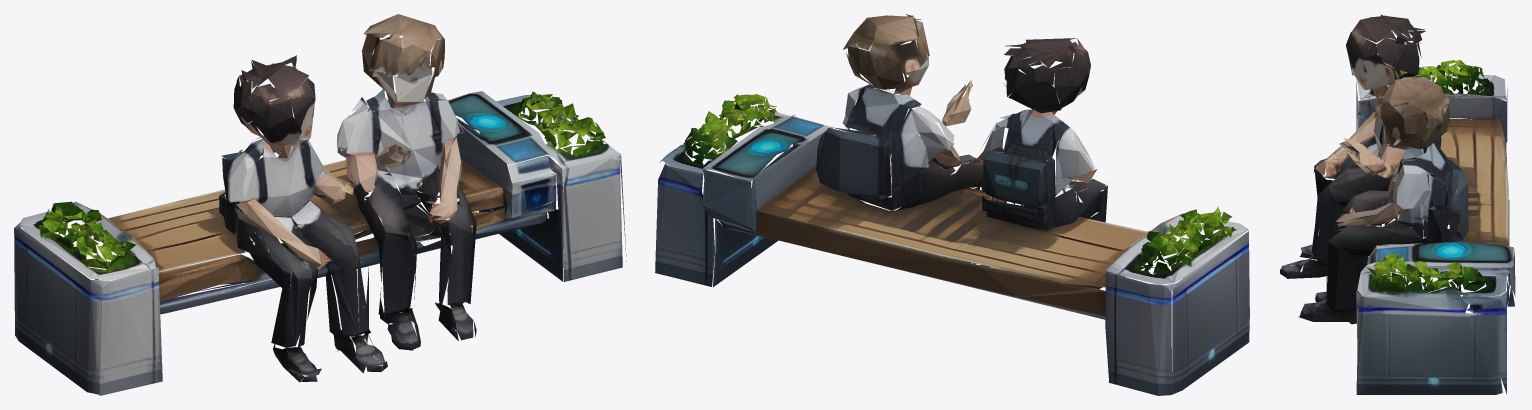
Rendered from school_boys.glb.
3 renders of one model, left to right at view 1: azimuth 30°, elevation 25°; view 2: azimuth 150°, elevation 25°; view 3: azimuth 270°, elevation 25°, orthographic. The views are drawn at different scales.
Visible parts, largest first — view 1: world.2082; view 2: world.2082; view 3: world.2082.
Boxes of the visible parts, x1,y1,x2,y2 form: world.2082: (14, 14, 626, 395); world.2082: (655, 14, 1249, 395); world.2082: (1280, 14, 1515, 394).
Bounding box in the file's own units: 0.996 × 0.4916 × 0.4442.
Materials: 1 (1 with a texture image).
